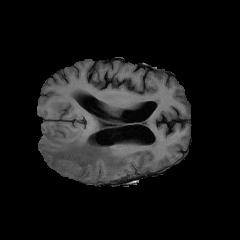glioma: (40, 115, 158, 175)
